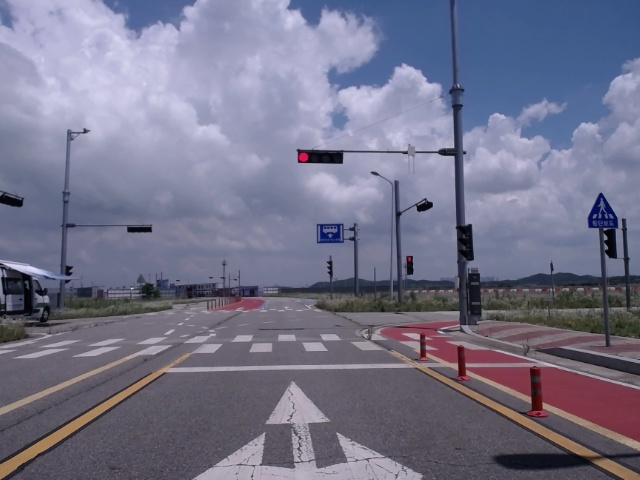red_4: (298, 151, 343, 164)
